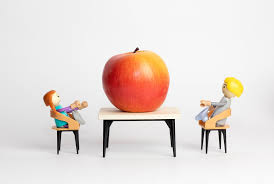apple: (102, 51, 171, 111)
